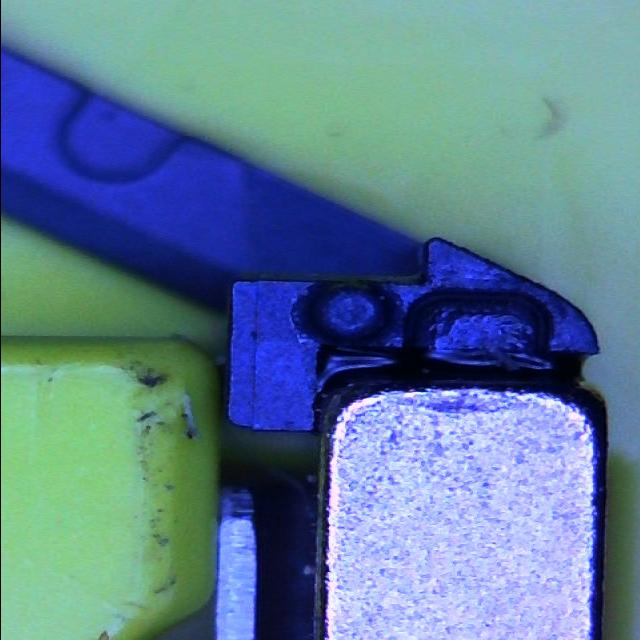over: (402, 288, 554, 380)
